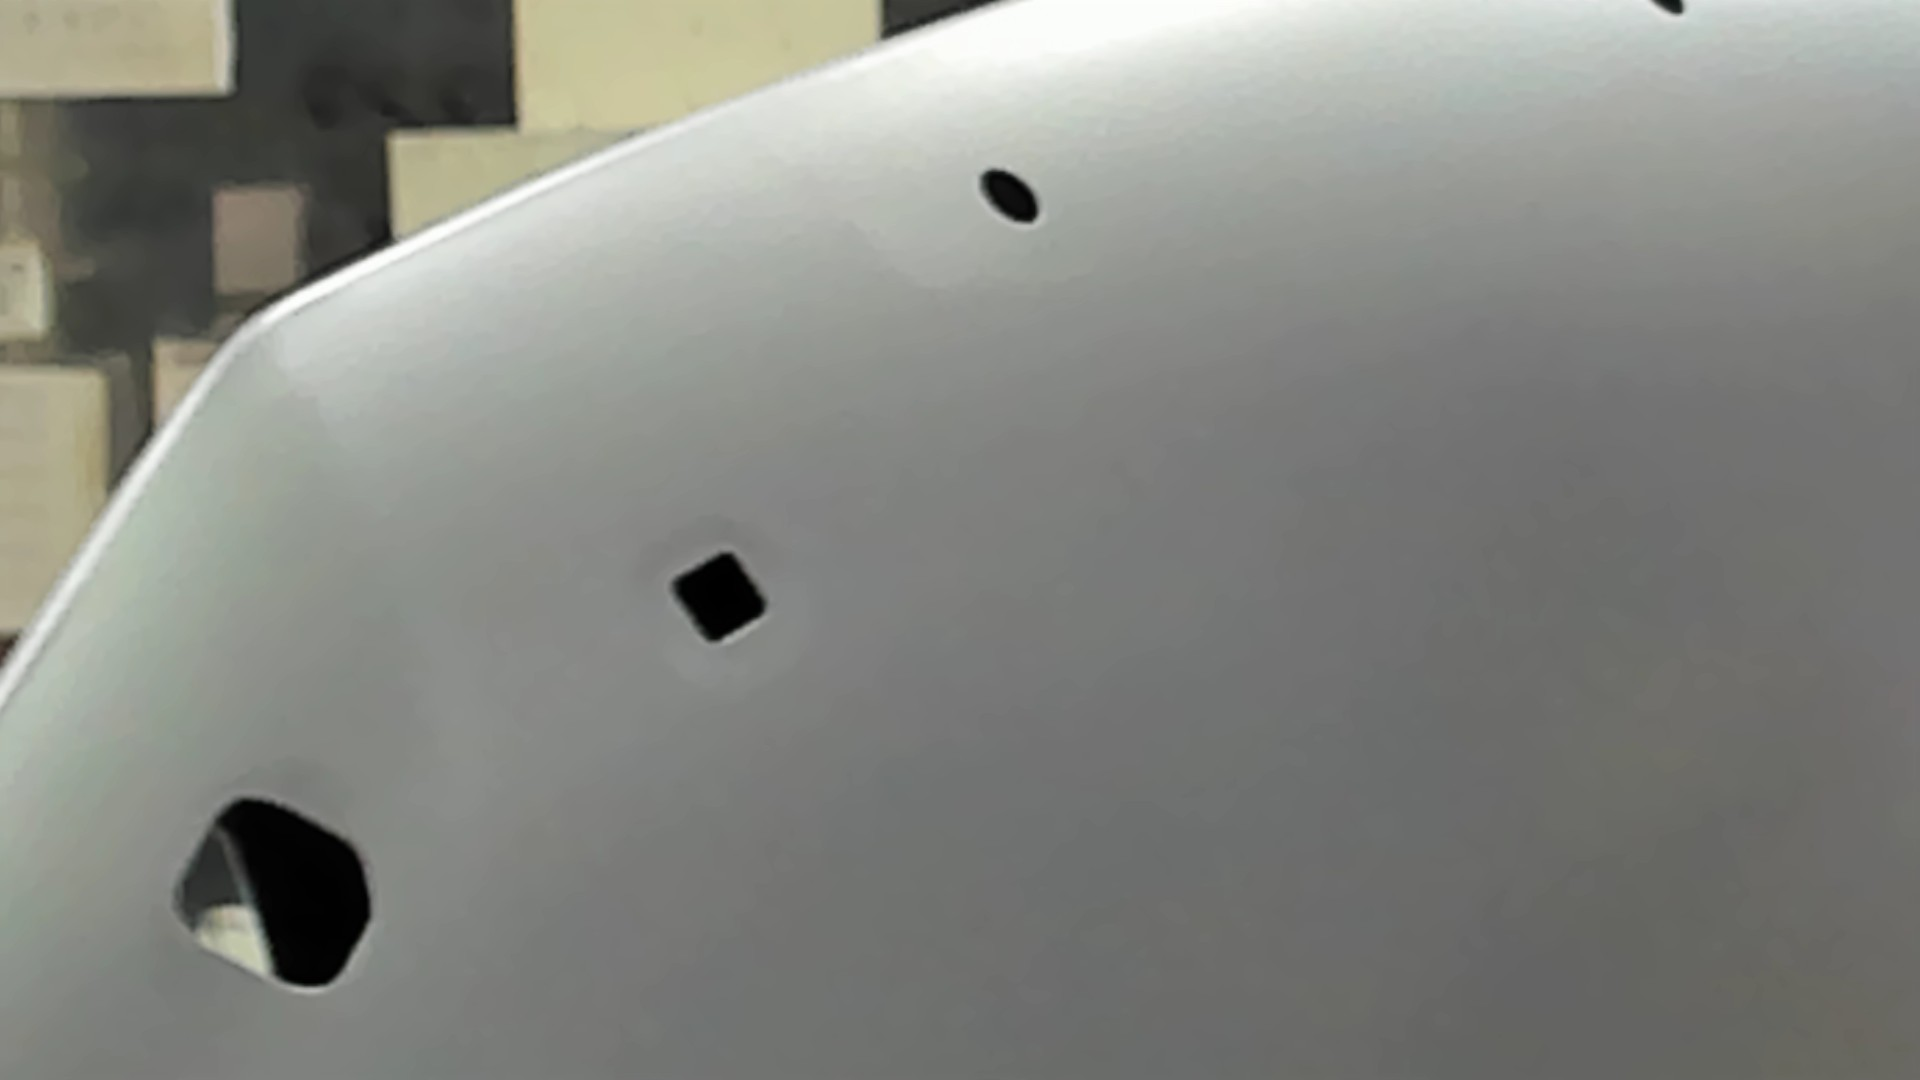chico: (975, 161, 1047, 229), (1646, 1, 1692, 26)
grande: (164, 794, 375, 1000)
mediano: (666, 542, 770, 651)
